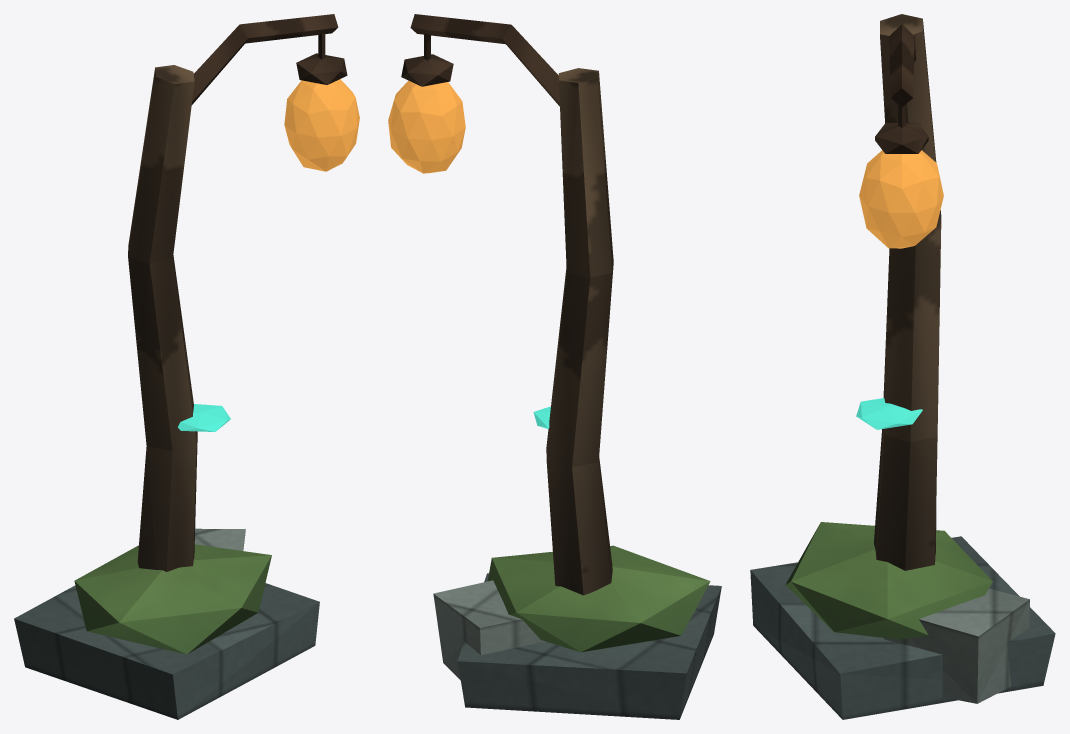
File: lantern_post.glb
The picture shows the model from 3 angles, left to right: view 1: azimuth 30°, elevation 25°; view 2: azimuth 150°, elevation 25°; view 3: azimuth 270°, elevation 25°; orthographic projection. The views are drawn at different scales.
Visible parts, largest first — view 1: lantern_post; view 2: lantern_post; view 3: lantern_post.
Boxes of the visible parts, x1=… form: lantern_post: x1=14, y1=14, x2=359, y2=719; lantern_post: x1=388, y1=14, x2=721, y2=719; lantern_post: x1=750, y1=14, x2=1055, y2=719.
Bounding box in the file's own units: 1.38 × 2.59 × 1.07.
4 materials, 4 textured.
